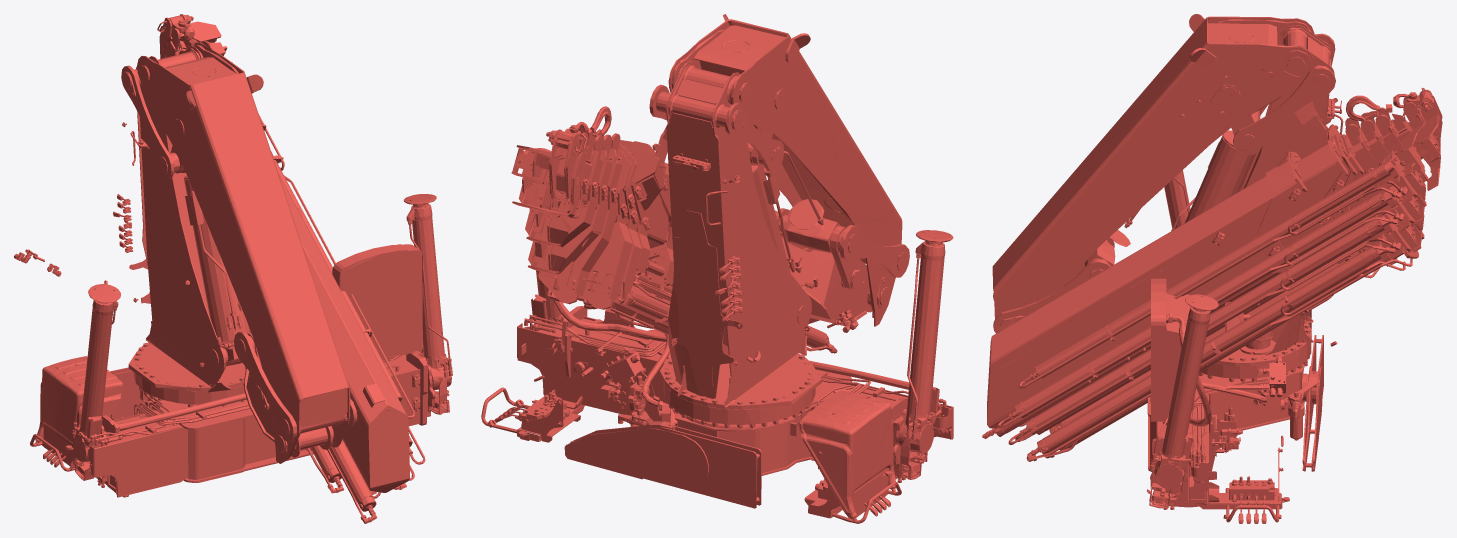
Rendered from hiab-x-hipro-408e8-articulated.glb.
The picture shows the model from 3 angles, left to right: view 1: azimuth 30°, elevation 25°; view 2: azimuth 150°, elevation 25°; view 3: azimuth 270°, elevation 25°; orthographic projection. The views are drawn at different scales.
Parts seen in each view (by area): view 1: main_mesh, base_mesh, column_mesh, outer_mesh, ext6_mesh, ext8_mesh; view 2: base_mesh, column_mesh, main_mesh, ext1_mesh, ext6_mesh, ext8_mesh, outer_mesh, ext4_mesh, ext2_mesh, ext3_mesh, ext7_mesh; view 3: main_mesh, base_mesh, outer_mesh, ext1_mesh, ext6_mesh, column_mesh, ext4_mesh, ext2_mesh, ext8_mesh, ext7_mesh, ext3_mesh.
Boxes of the visible parts, x1,y1,x2,y2 form: main_mesh: (121, 42, 357, 463); base_mesh: (14, 194, 452, 497); column_mesh: (113, 46, 263, 392); outer_mesh: (273, 155, 412, 523); ext6_mesh: (232, 62, 414, 418); ext8_mesh: (157, 14, 225, 58); base_mesh: (481, 148, 953, 523); column_mesh: (609, 14, 814, 407); main_mesh: (649, 19, 909, 326); ext1_mesh: (551, 140, 671, 334); ext6_mesh: (518, 129, 620, 274); ext8_mesh: (511, 122, 592, 217); outer_mesh: (623, 162, 837, 353); ext4_mesh: (531, 148, 622, 295); ext2_mesh: (538, 143, 642, 304); ext3_mesh: (528, 147, 632, 300); ext7_mesh: (522, 106, 611, 209); main_mesh: (992, 16, 1335, 333); base_mesh: (1147, 170, 1337, 523); outer_mesh: (982, 156, 1358, 461); ext1_mesh: (991, 124, 1405, 455); ext6_mesh: (1018, 111, 1426, 388); column_mesh: (1189, 14, 1343, 361); ext4_mesh: (997, 127, 1424, 428); ext2_mesh: (1008, 134, 1418, 458); ext8_mesh: (1392, 87, 1442, 190); ext7_mesh: (1346, 95, 1428, 182); ext3_mesh: (1339, 134, 1410, 264).
Bounding box in the file's own units: 2.51 × 2.51 × 2.68.
